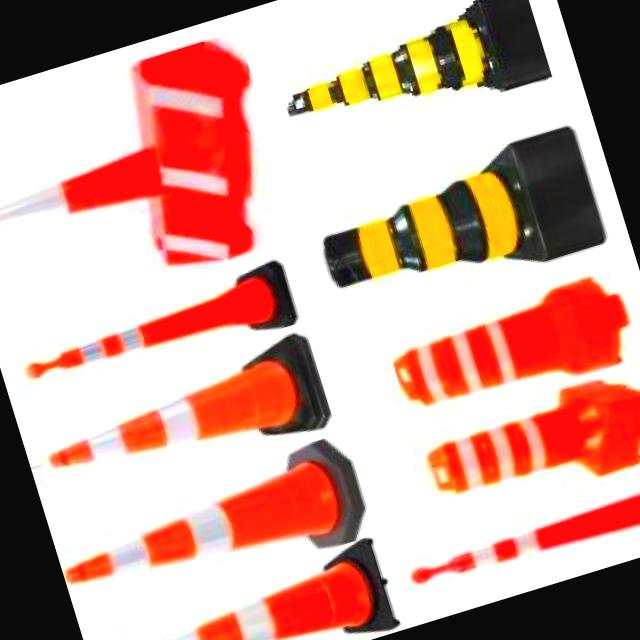cone: (49, 432, 364, 612), (41, 328, 327, 498), (117, 530, 410, 640)
